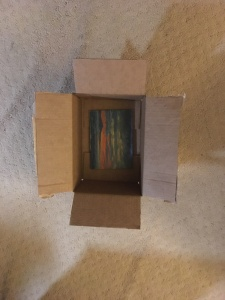innerbox: (71, 92, 143, 196)
outerbox: (35, 59, 177, 231)
product: (89, 108, 132, 169)
